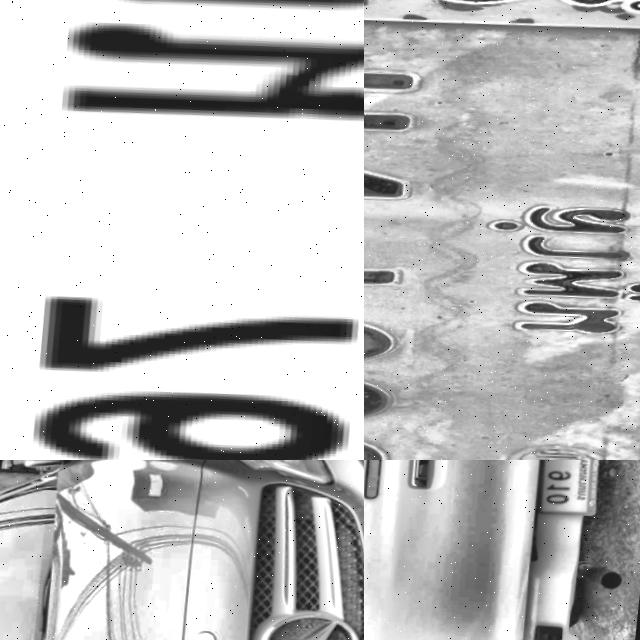license-plate: (0, 0, 364, 460), (364, 0, 640, 460), (541, 460, 613, 511)
